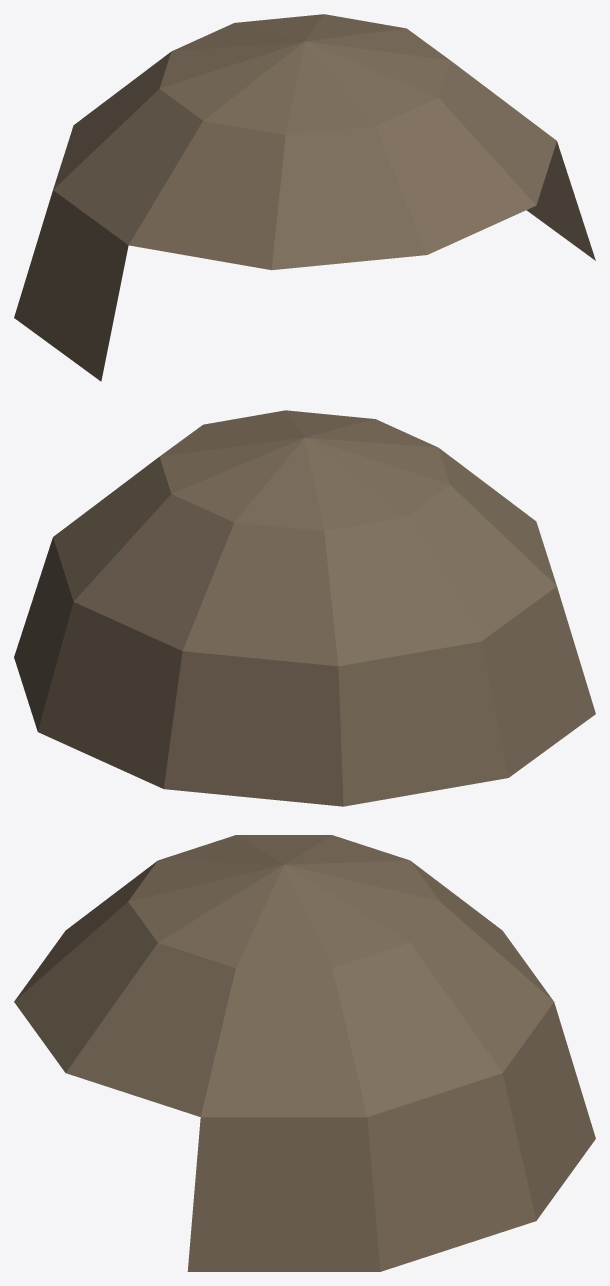
Rendered from afro.glb.
3 views of the same model, one above another, from view 1: azimuth 30°, elevation 25°; view 2: azimuth 150°, elevation 25°; view 3: azimuth 270°, elevation 25° (orthographic). The views are drawn at different scales.
Parts seen in each view (by area): view 1: afro; view 2: afro; view 3: afro.
Part boxes in pixels (bbox=[...]): afro: bbox=[14, 14, 595, 381]; afro: bbox=[14, 410, 595, 806]; afro: bbox=[14, 835, 595, 1271].
Bounding box in the file's own units: 0.6467 × 0.31 × 0.5971.
